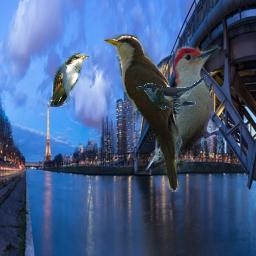Cuckoo: (103, 34, 182, 194), (136, 71, 214, 110), (50, 53, 89, 107)
Woodpecker: (144, 45, 222, 174)
